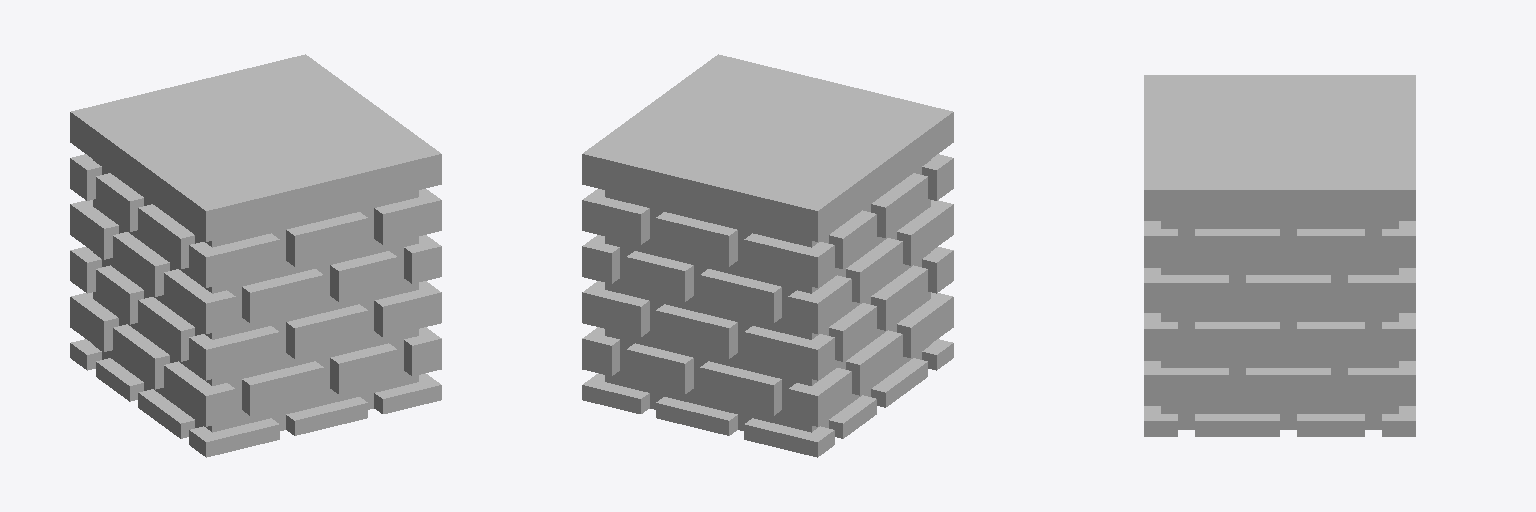
Rendered from brick.obj.
3 renders of one model, left to right at view 1: azimuth 30°, elevation 25°; view 2: azimuth 150°, elevation 25°; view 3: azimuth 270°, elevation 25°, orthographic.
Visible parts, largest first — view 1: object 1; view 2: object 1; view 3: object 1.
Part boxes in pixels (x1,y1,x2,y2): object 1: (70, 54, 441, 457); object 1: (582, 54, 953, 457); object 1: (1144, 75, 1415, 436).
Bounding box in the file's own units: 1.6 × 1.6 × 1.6.